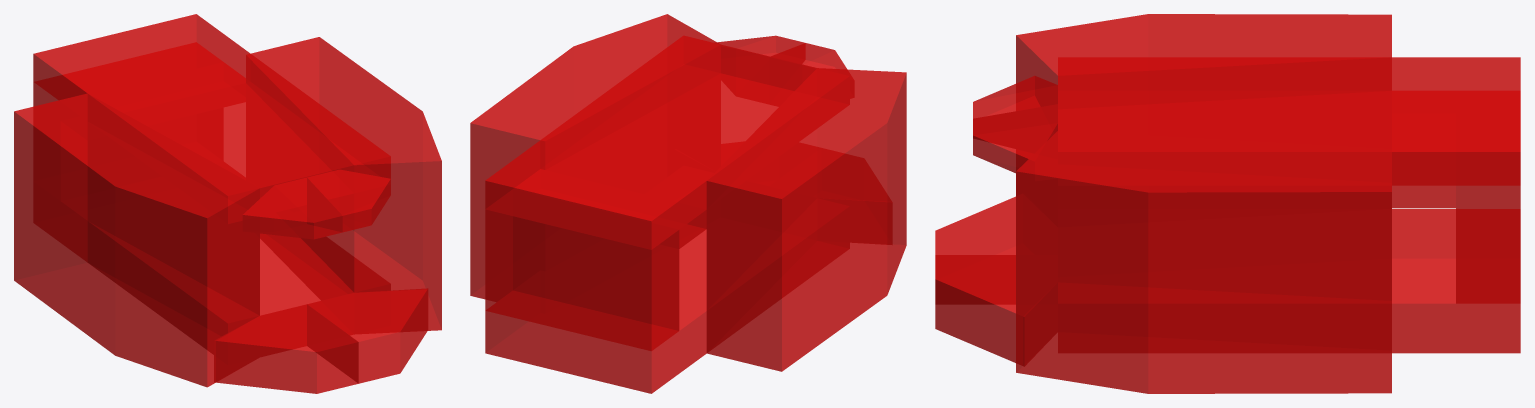
The model's file is SM_Bld_Bunker_Gun_01_Collision.fbx.
3 views of the same model, side by side, from view 1: azimuth 30°, elevation 25°; view 2: azimuth 150°, elevation 25°; view 3: azimuth 270°, elevation 25° (orthographic). The views are drawn at different scales.
Visible parts, largest first — view 1: SM_Bld_Bunker_Gun_01_Collision; view 2: SM_Bld_Bunker_Gun_01_Collision; view 3: SM_Bld_Bunker_Gun_01_Collision.
Boxes of the visible parts, x1,y1,x2,y2 form: SM_Bld_Bunker_Gun_01_Collision: (14,14,441,393); SM_Bld_Bunker_Gun_01_Collision: (470,14,906,393); SM_Bld_Bunker_Gun_01_Collision: (935,14,1520,393).
Bounding box in the file's own units: 1030 × 542 × 1427.
